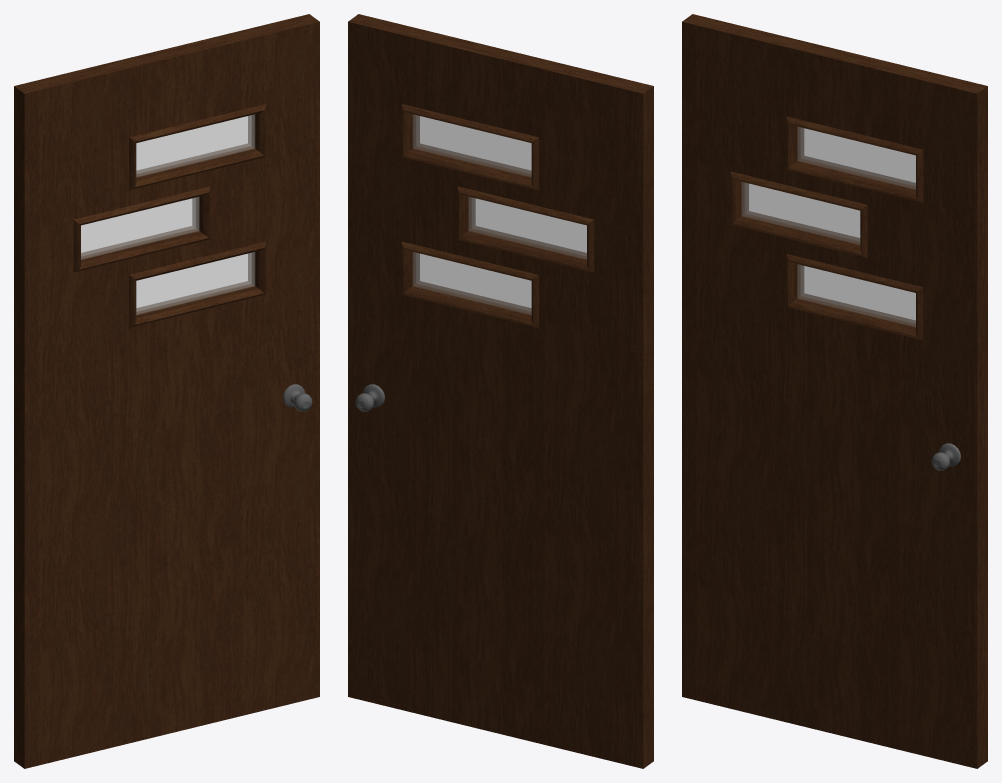
Rendered from d_leaf_a.glb.
3 renders of one model, left to right at view 1: azimuth 30°, elevation 25°; view 2: azimuth 150°, elevation 25°; view 3: azimuth 330°, elevation 25°, orthographic.
Parts seen in each view (by area): view 1: doorFront_A_01_Wood027_0, doorFront_A_01_doorFront_glass_0, doorFront_A_01_doorFront_knob_0; view 2: doorFront_A_01_Wood027_0, doorFront_A_01_doorFront_glass_0, doorFront_A_01_doorFront_knob_0; view 3: doorFront_A_01_Wood027_0, doorFront_A_01_doorFront_glass_0, doorFront_A_01_doorFront_knob_0.
Boxes of the visible parts, x1,y1,x2,y2 form: doorFront_A_01_Wood027_0: [14, 14, 319, 768]; doorFront_A_01_doorFront_glass_0: [81, 114, 254, 314]; doorFront_A_01_doorFront_knob_0: [283, 384, 312, 411]; doorFront_A_01_Wood027_0: [348, 14, 653, 768]; doorFront_A_01_doorFront_glass_0: [413, 114, 586, 314]; doorFront_A_01_doorFront_knob_0: [355, 384, 384, 411]; doorFront_A_01_Wood027_0: [682, 14, 987, 768]; doorFront_A_01_doorFront_glass_0: [741, 127, 915, 327]; doorFront_A_01_doorFront_knob_0: [931, 443, 960, 470].
Size of the model in its own units: 0.9202 by 2.01 by 0.197.
Materials: 3 (1 with a texture image).
